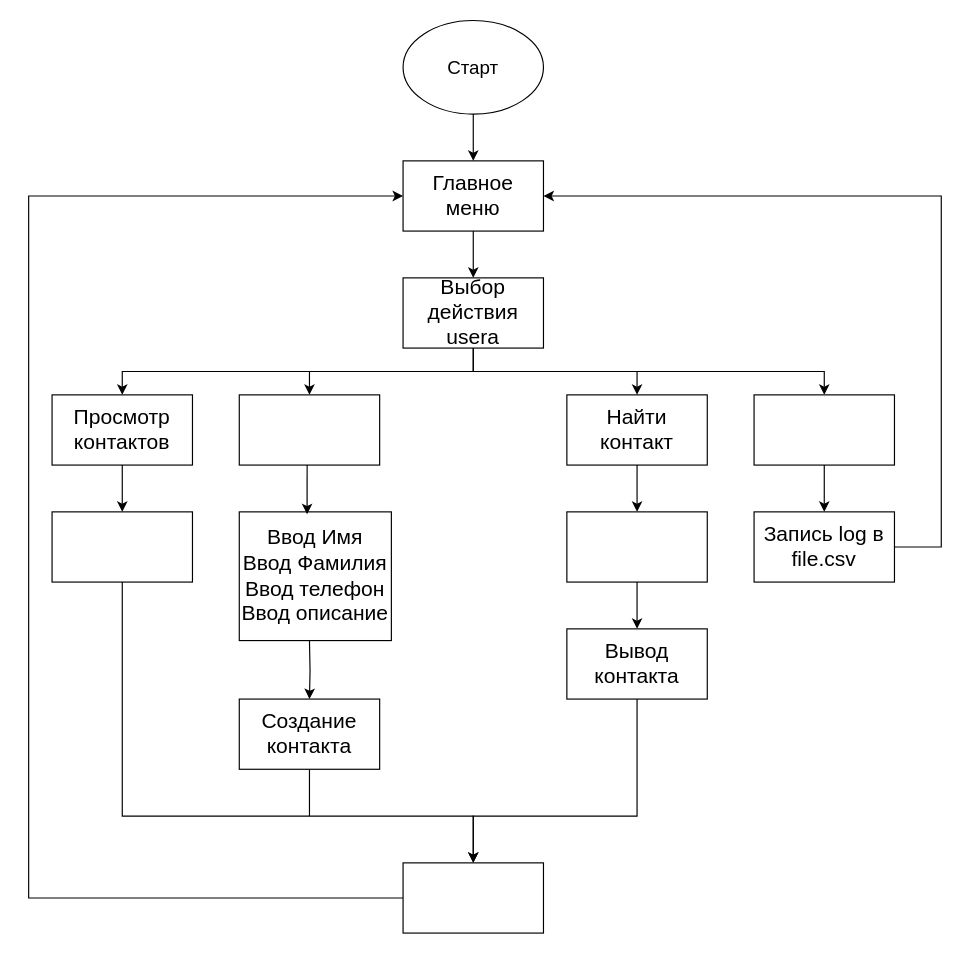
Image size: 971x956. Some labels were removed from this diagram. Here are the shapes that lost their labels. From the top down, the centre of each, then its label:
the point at 309,429: Добавить контакт
the point at 823,429: Выход
the point at 121,546: Вывод log из file.csv
the point at 636,546: Ввод Имя контакта
the point at 472,897: Закончить действие Enter
